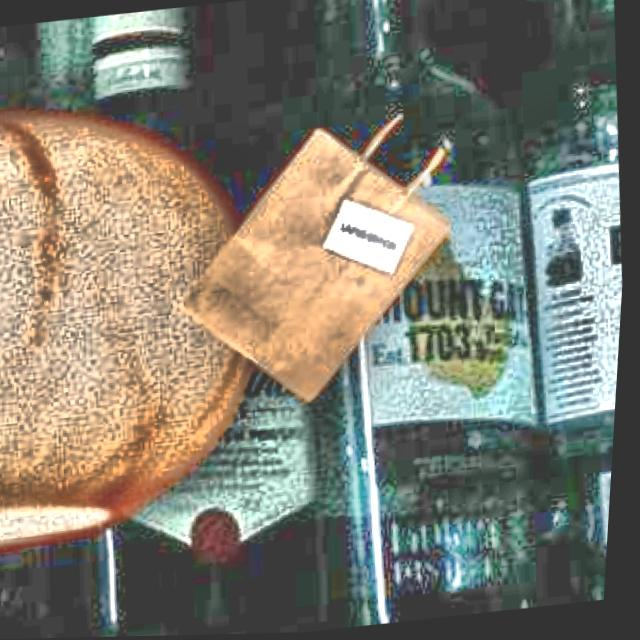Paper-bag: (156, 73, 493, 438)
